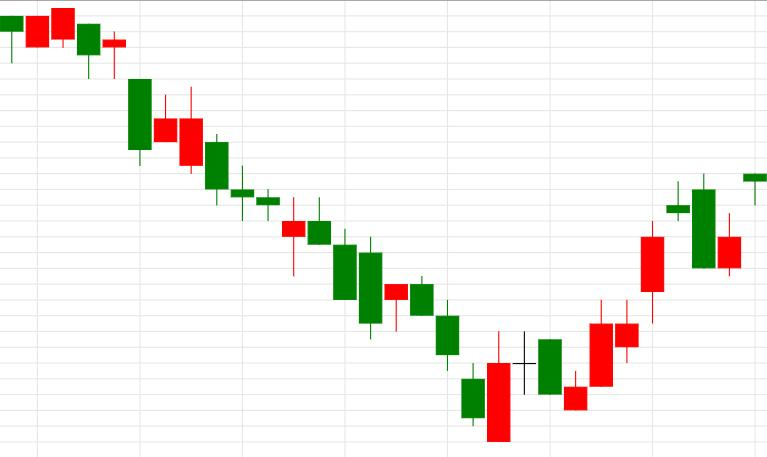bullish_engulfing_rise: (308, 198, 510, 442)
